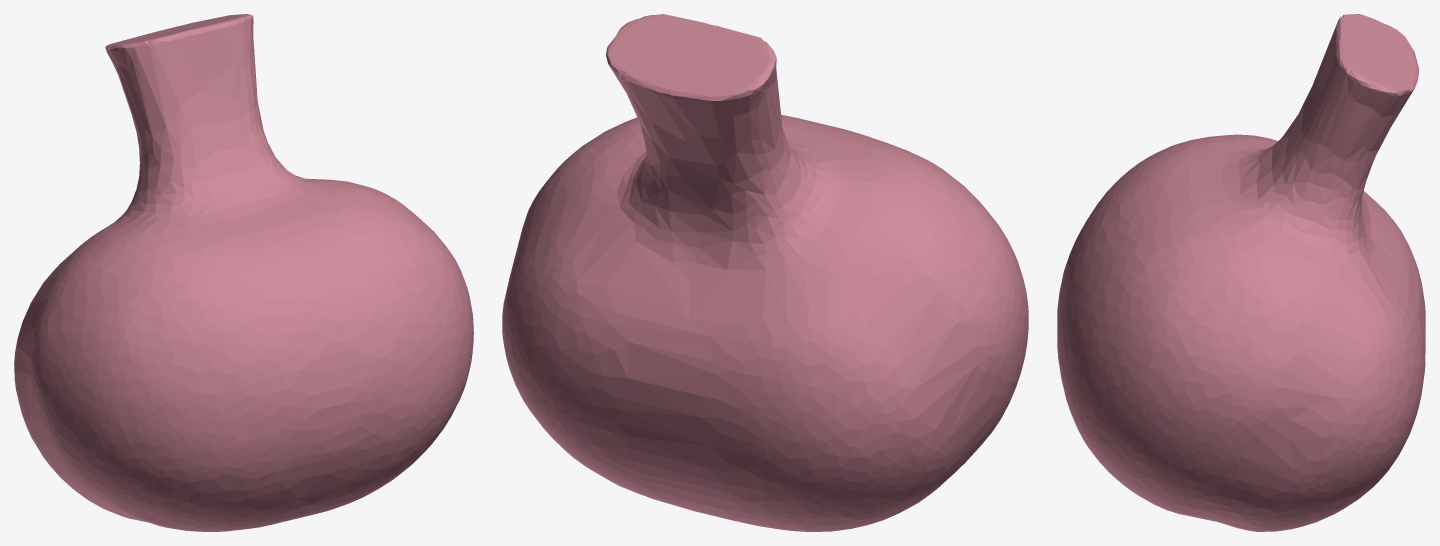
The model's file is pituitary.glb.
3 renders of one model, left to right at view 1: azimuth 30°, elevation 25°; view 2: azimuth 150°, elevation 25°; view 3: azimuth 270°, elevation 25°, orthographic. The views are drawn at different scales.
Parts seen in each view (by area): view 1: pituitary-gland; view 2: pituitary-gland; view 3: pituitary-gland.
Boxes of the visible parts, x1,y1,x2,y2 form: pituitary-gland: (14, 14, 473, 531); pituitary-gland: (502, 14, 1028, 531); pituitary-gland: (1057, 14, 1425, 531).
Bounding box in the file's own units: 11.69 × 12.27 × 8.96.
